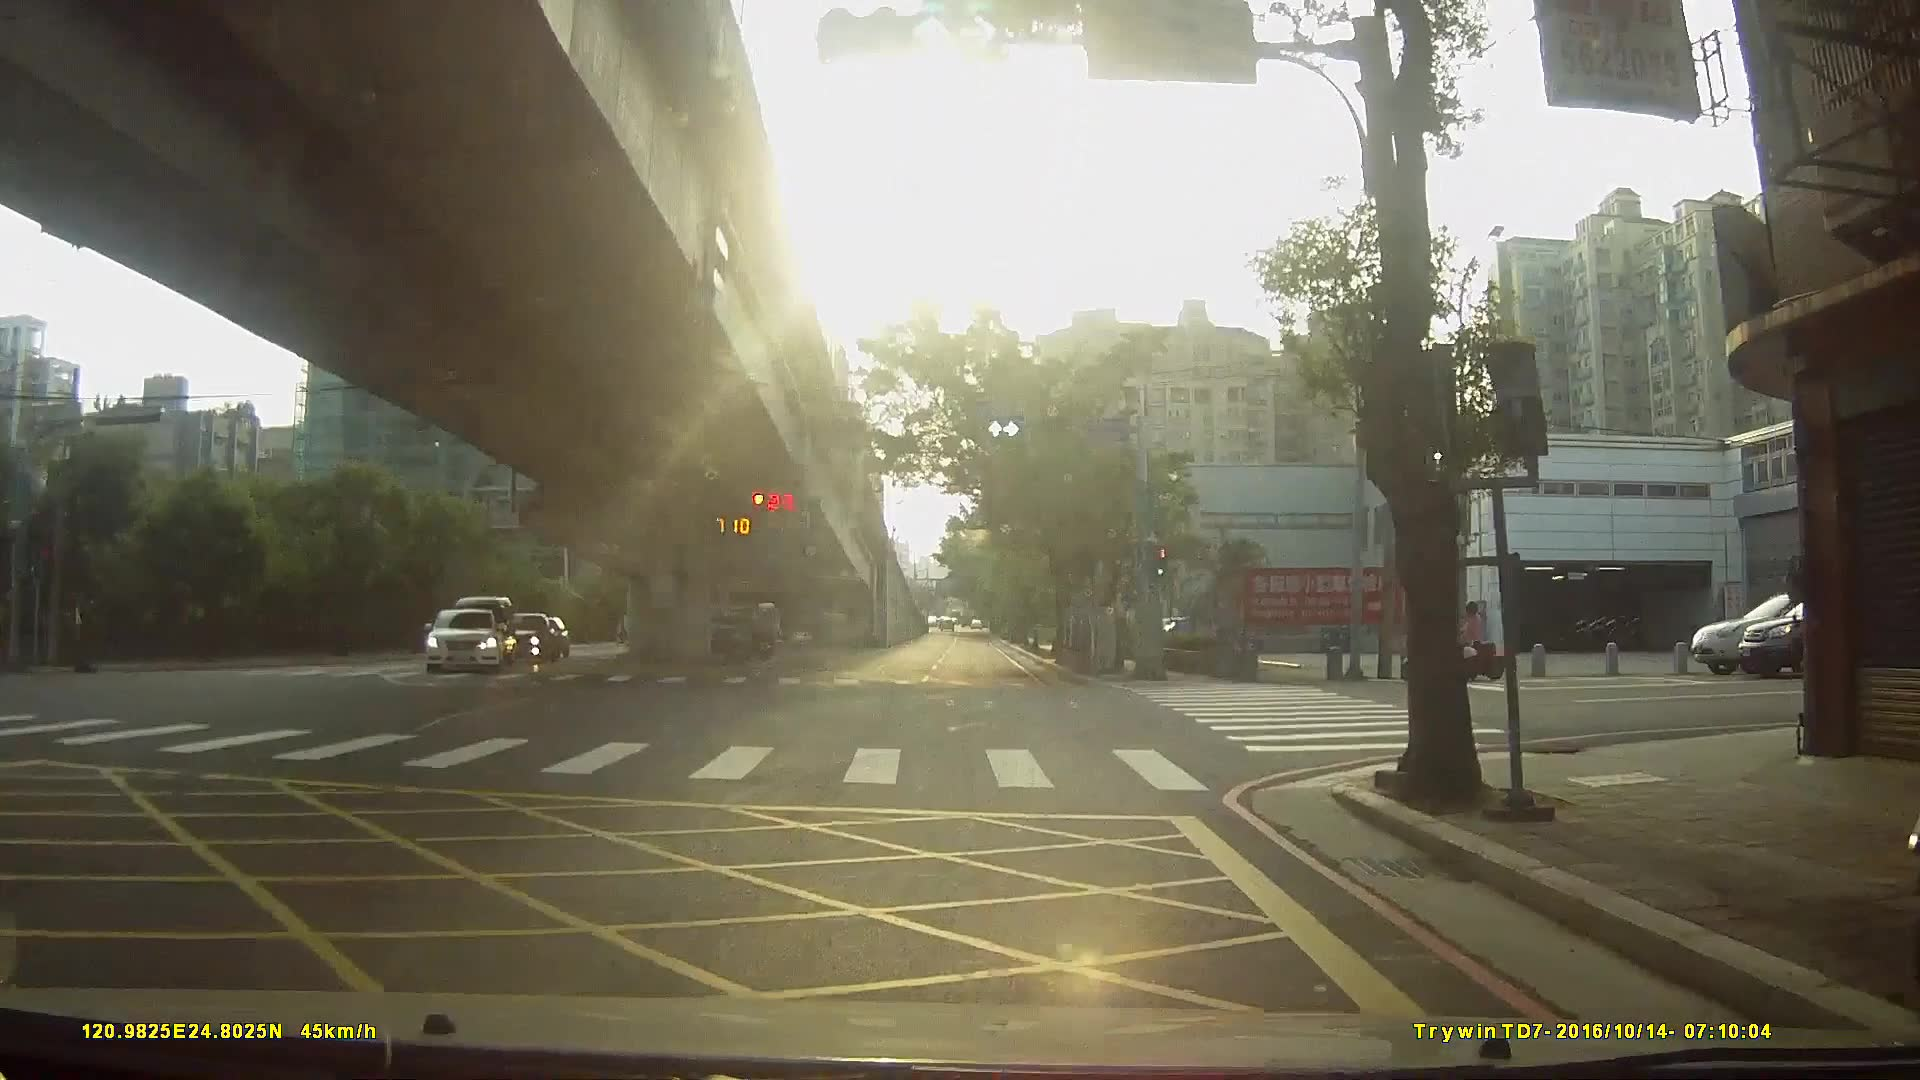rider: (1404, 600, 1483, 684)
vehicle: (1697, 591, 1892, 679), (1745, 582, 1919, 678), (417, 608, 499, 677), (682, 611, 779, 667), (490, 609, 559, 662)
